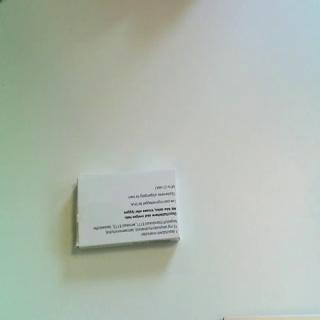oxycontin15mg: (74, 167, 182, 252)
